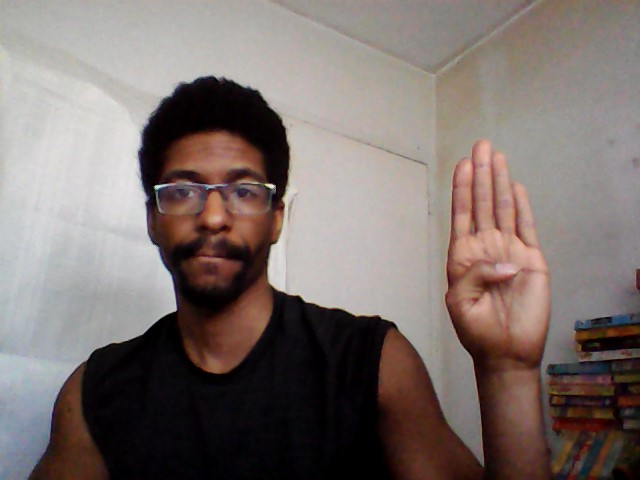b: (444, 135, 555, 358)
